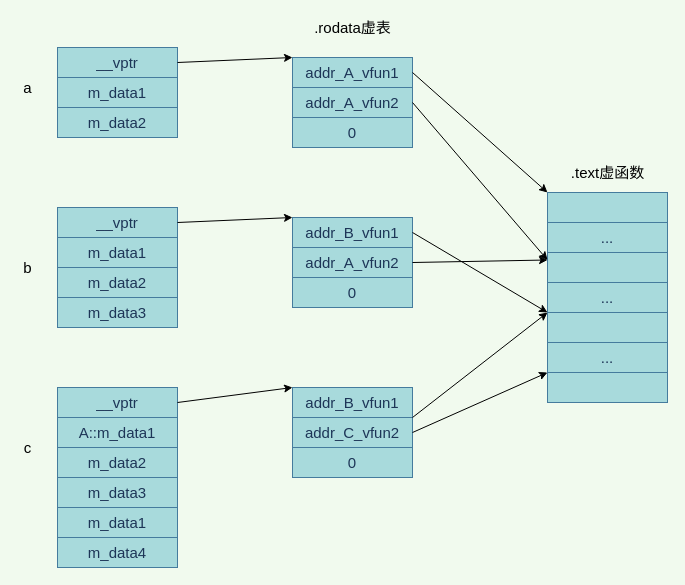
Some shapes in this 685 by 585 pixel diagram are drawn without their labels. The shapes that lost their labels are listed below. From the top down, each one's centre as x and y in pixels, then its label:
At [607,207]: "A::vfun1".
At [607,267]: "A::vfun2".
At [607,327]: "B::vfun1".
At [607,387]: "C::vfun2".
